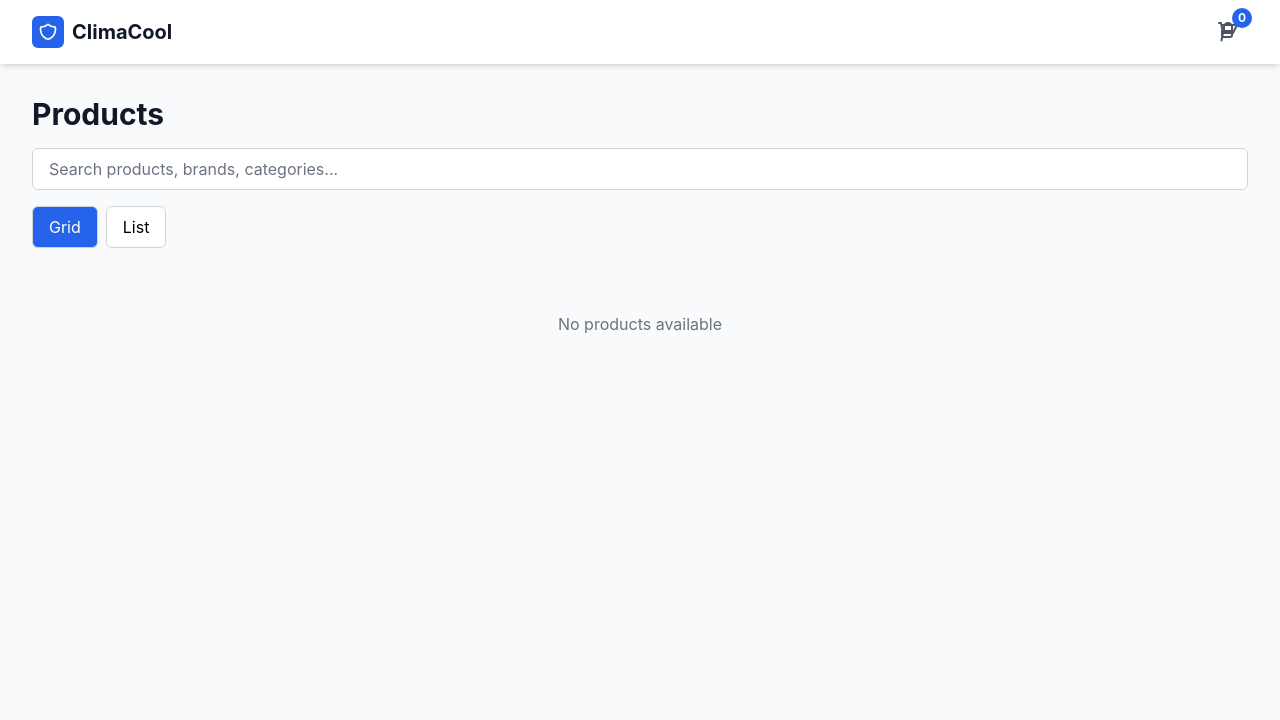
Scenario: Main Layout E2E Tests › Cart Sidebar › should open cart sidebar when cart icon is clicked
Click the button with test id "cart-icon-button" at [1228, 32], box [1208,12,1248,52]
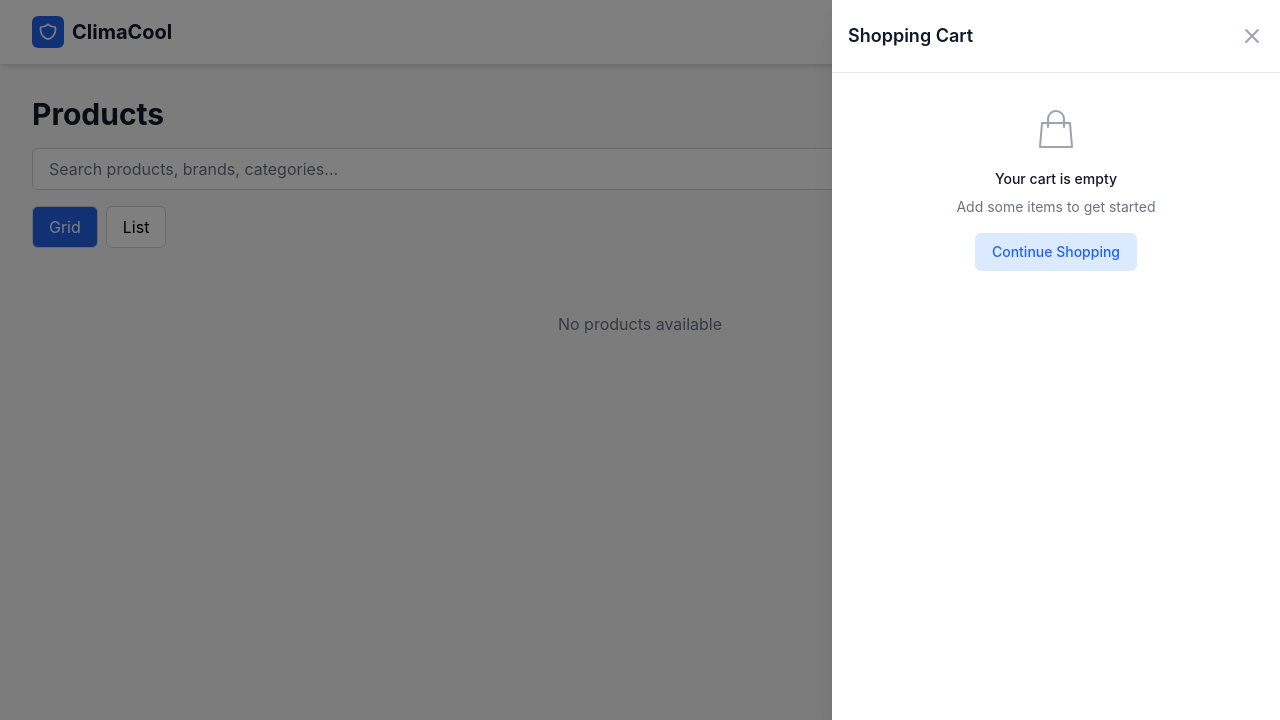
Expected: the element with test id "cart-sidebar" is shown, [832,0,1279,719]
Expected: the element with test id "cart-overlay" is shown
